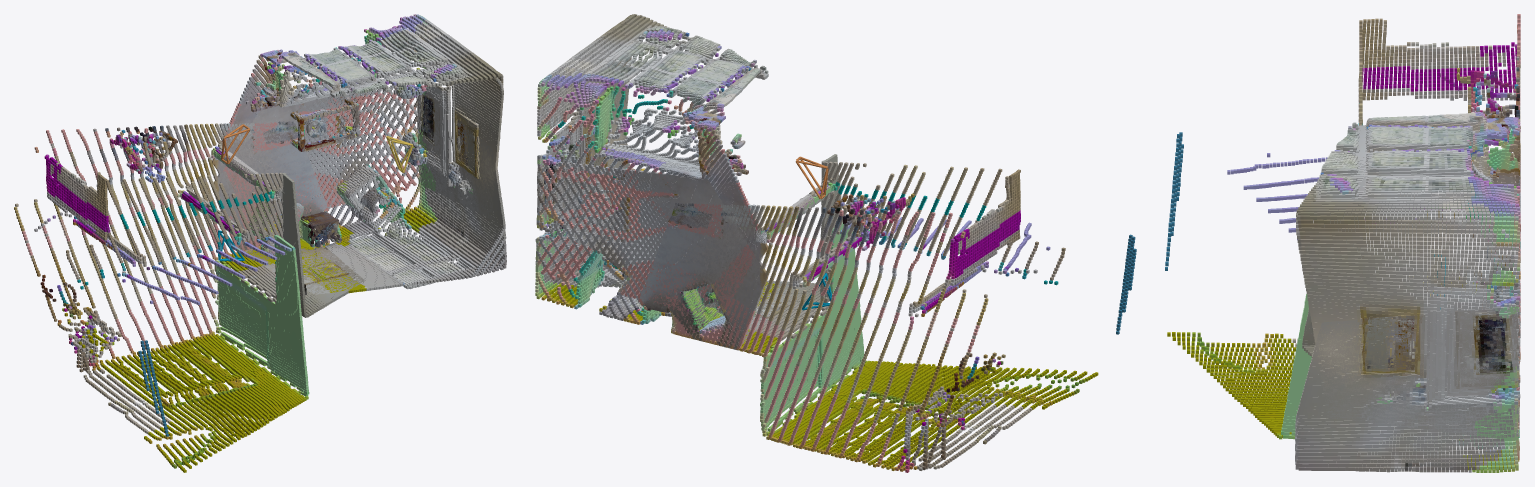
3 renders of one model, left to right at view 1: azimuth 30°, elevation 25°; view 2: azimuth 150°, elevation 25°; view 3: azimuth 270°, elevation 25°, orthographic. The views are drawn at different scales.
Bounding box in the file's own units: 9.59 × 6.18 × 5.39.
